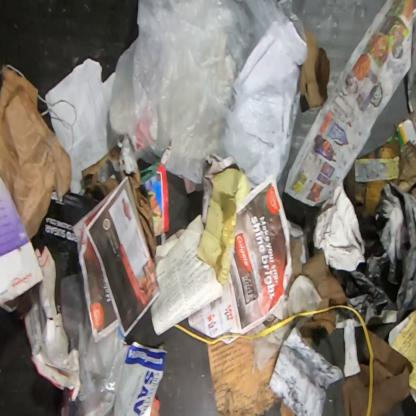cardboard: (0, 63, 71, 240), (206, 331, 281, 416), (343, 328, 413, 416), (298, 325, 314, 346)
soft_plastic: (109, 0, 308, 192), (61, 272, 129, 415)
